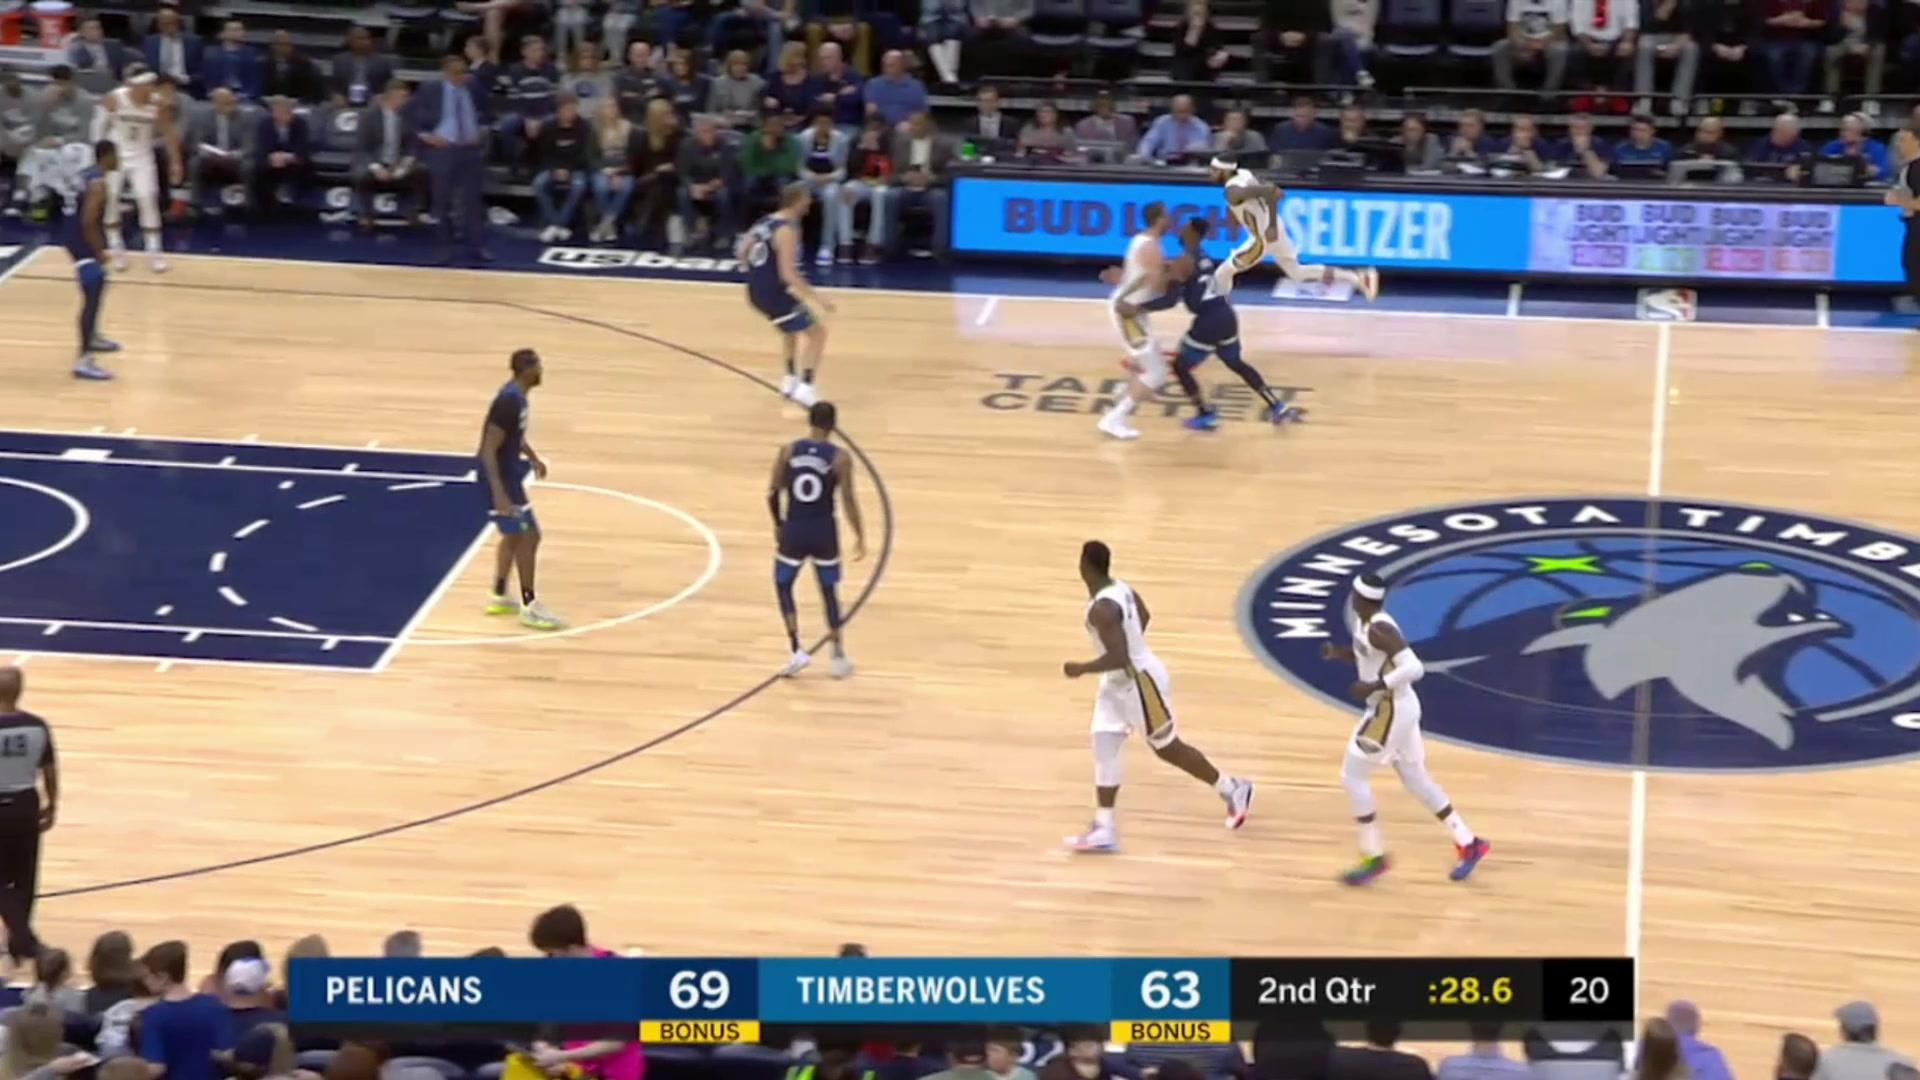no_foul: (1112, 193, 1261, 430)
